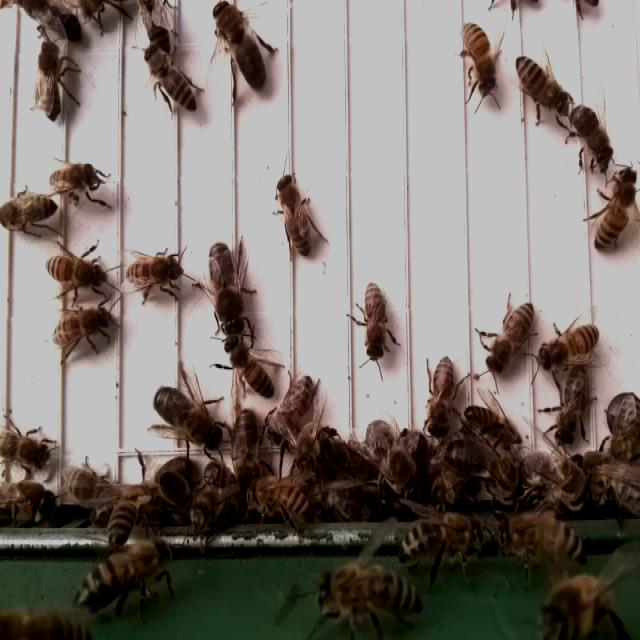Drone: (151, 383, 225, 455), (206, 240, 251, 339)
Worker: (142, 42, 201, 114), (483, 300, 538, 377), (593, 169, 638, 256), (269, 368, 317, 444), (277, 170, 316, 261), (458, 17, 499, 102), (551, 363, 590, 450), (224, 334, 274, 400), (569, 100, 614, 170), (514, 50, 565, 111), (425, 356, 461, 440), (537, 323, 605, 367), (44, 250, 109, 296), (360, 275, 392, 368), (50, 305, 116, 348), (128, 250, 186, 297), (0, 192, 59, 234), (36, 39, 63, 124), (47, 159, 102, 200)
